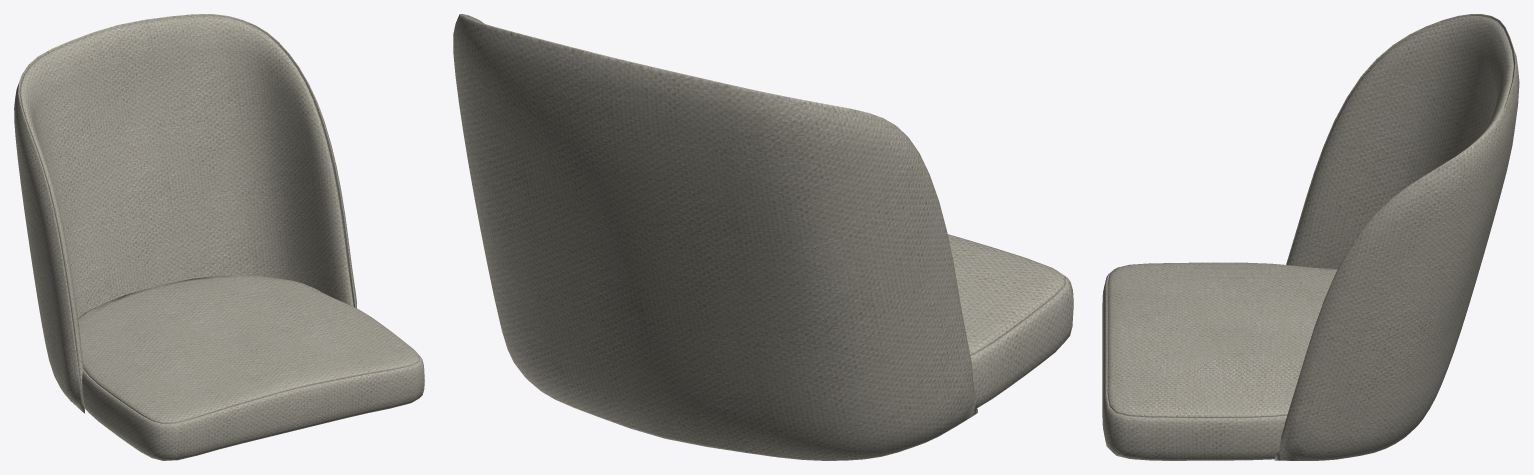
Rendered from Amy metal.glb.
The picture shows the model from 3 angles, left to right: view 1: azimuth 30°, elevation 25°; view 2: azimuth 150°, elevation 25°; view 3: azimuth 270°, elevation 25°; orthographic projection. The views are drawn at different scales.
Parts seen in each view (by area): view 1: backseat; view 2: backseat; view 3: backseat.
Part boxes in pixels (bbox=[...]): backseat: bbox=[14, 14, 424, 460]; backseat: bbox=[453, 14, 1073, 460]; backseat: bbox=[1102, 14, 1519, 460].
Size of the model in its own units: 0.522 by 0.4848 by 0.5653.
1 material, 1 textured.
